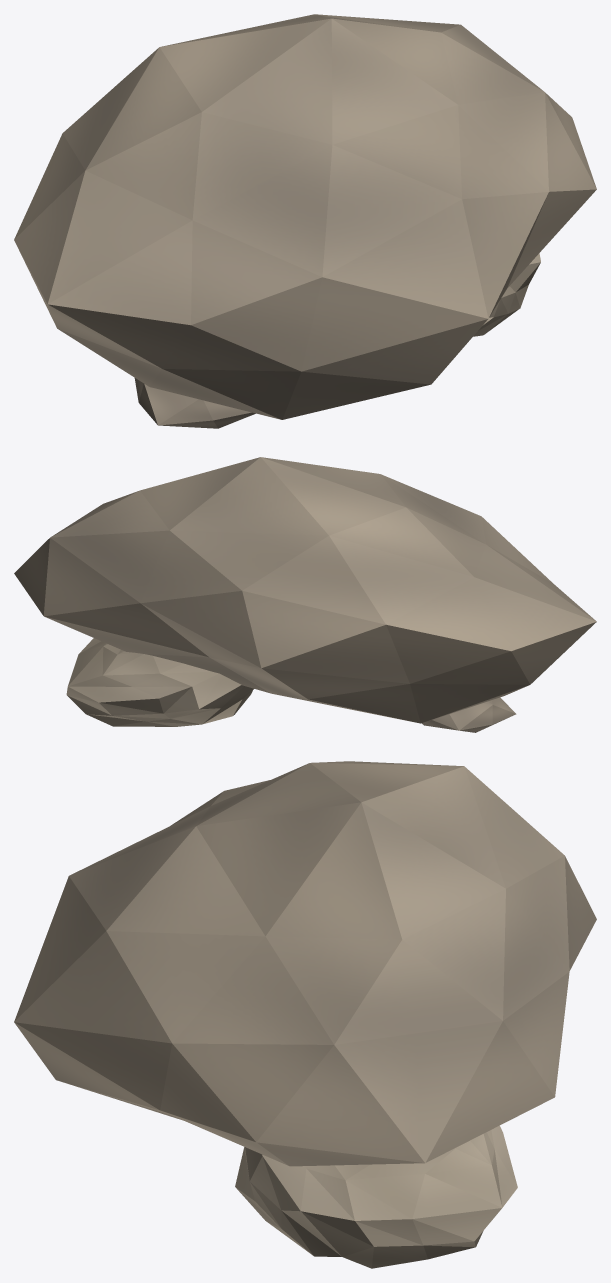
Rendered from rock-support-a.glb.
3 renders of one model, top to bottom at view 1: azimuth 30°, elevation 25°; view 2: azimuth 150°, elevation 25°; view 3: azimuth 270°, elevation 25°, orthographic. The views are drawn at different scales.
Size of the model in its own units: 2.53 by 1.3 by 1.82.
Materials: 3 (3 with a texture image).
